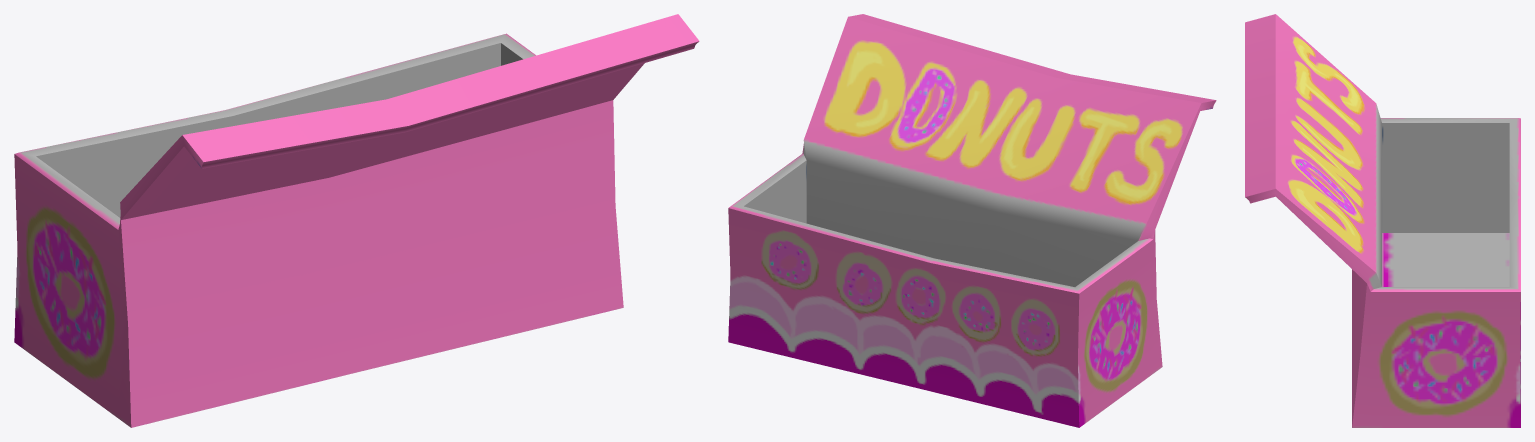
The model's file is Donut_Box.fbx.
3 views of the same model, side by side, from view 1: azimuth 30°, elevation 25°; view 2: azimuth 150°, elevation 25°; view 3: azimuth 270°, elevation 25° (orthographic). The views are drawn at different scales.
Visible parts, largest first — view 1: Donut_box; view 2: Donut_box; view 3: Donut_box.
Boxes of the visible parts, x1,y1,x2,y2 form: Donut_box: (14,14,699,427); Donut_box: (728,14,1216,427); Donut_box: (1245,14,1520,427).
Size of the model in its own units: 0.2678 by 0.1713 by 0.1786.
